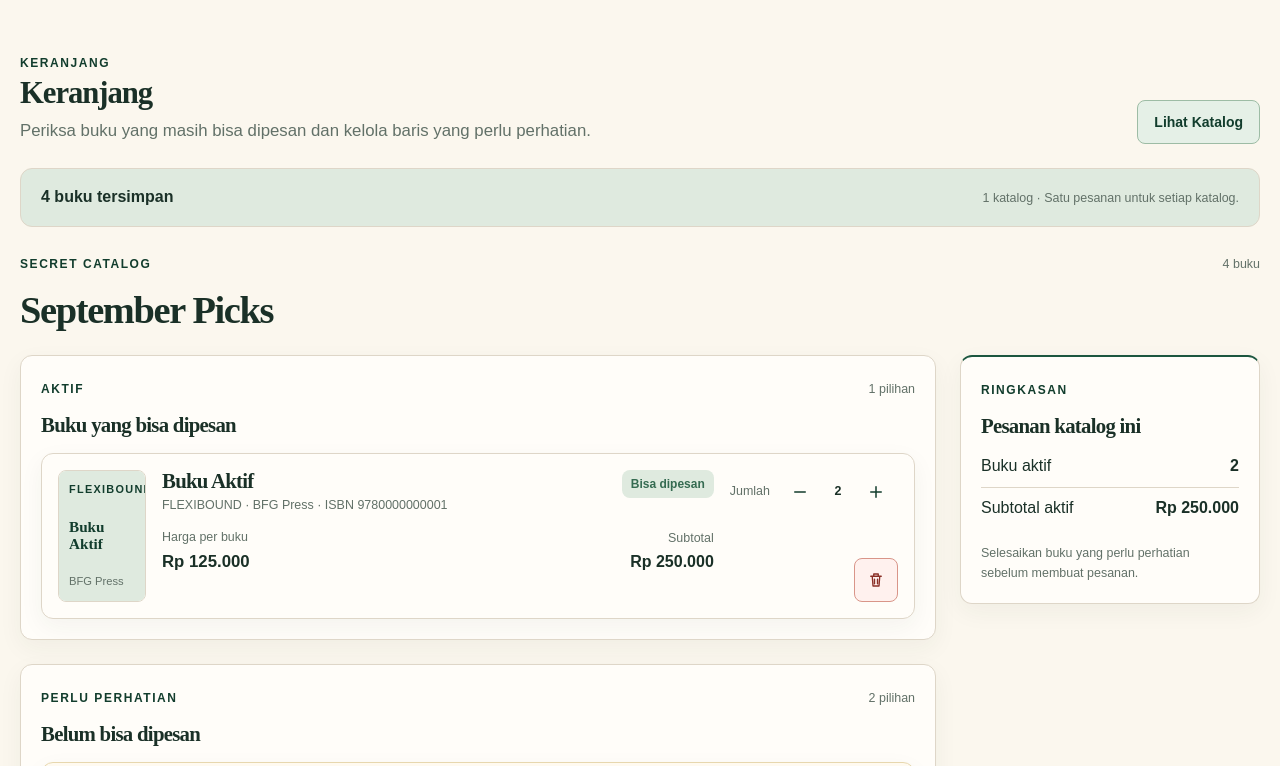
it: Customer Cart page › renders a safe mutation error without exposing the server error
Expected: the heading "Buku yang bisa dipesan" is shown, [41,414,236,437]
Click the button named "Tambah jumlah Buku Aktif" at (876, 492), box [854,470,898,514]
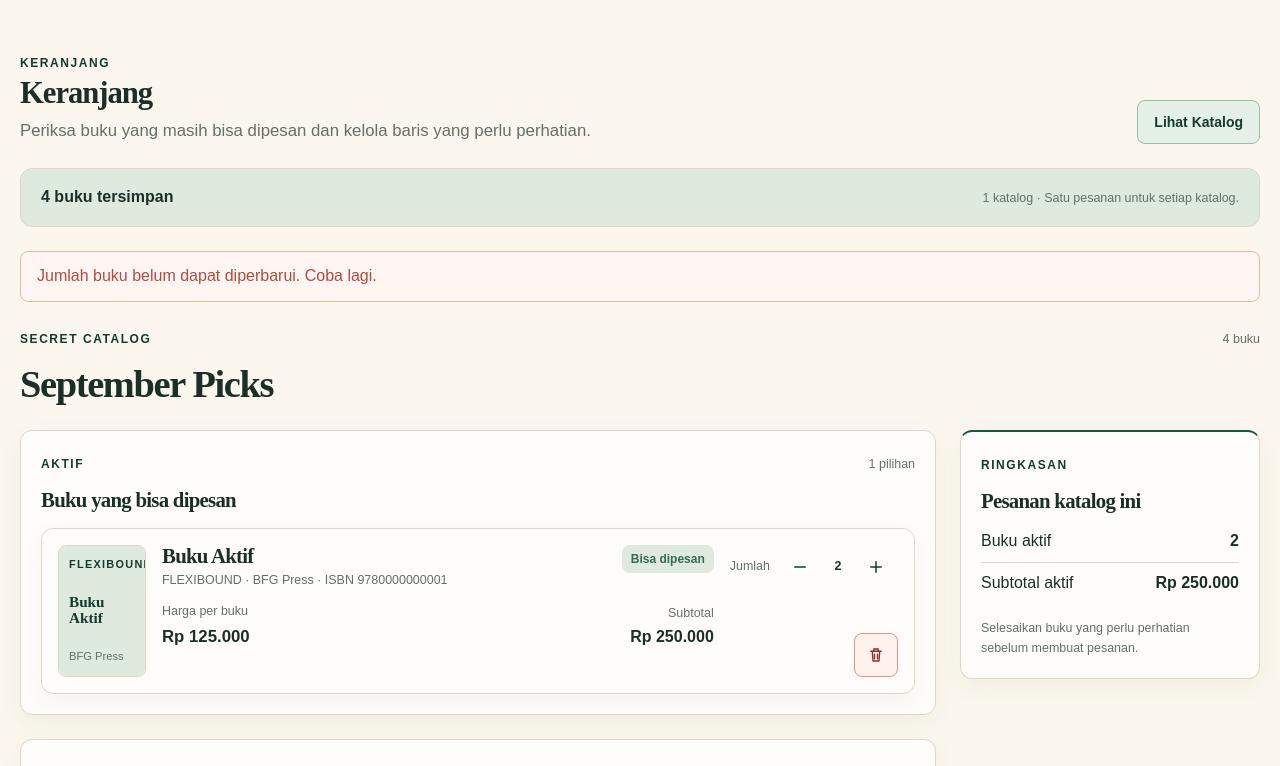
Now the message reads "Jumlah buku belum dapat diperbarui. Coba lagi.", box [37,267,377,284]
